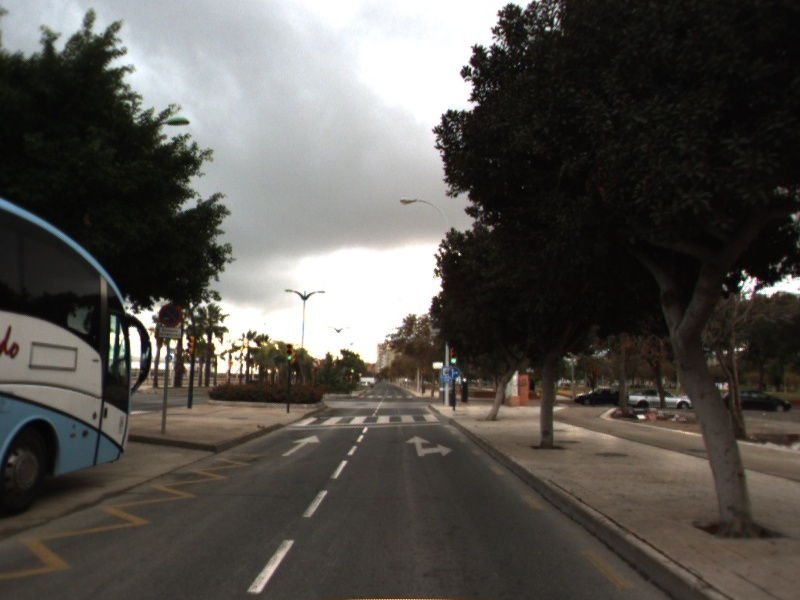STRAIGHT: (280, 433, 322, 458)
STRAIGHT_RIGHT: (404, 433, 456, 459)
